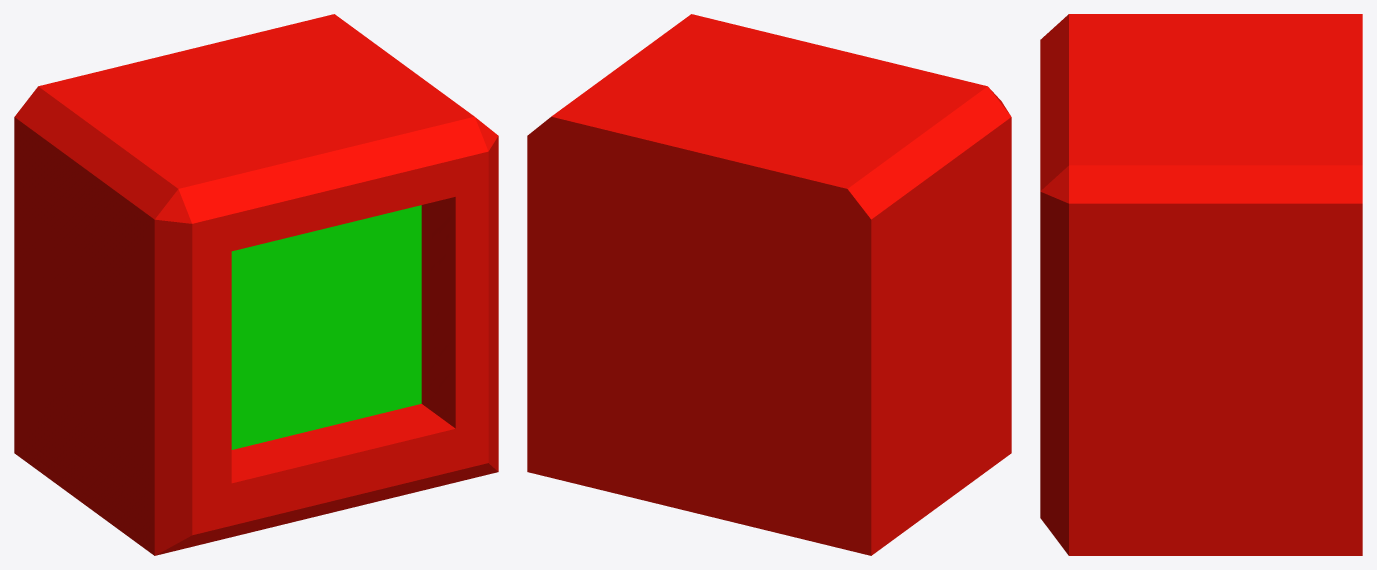
The model's file is Ammo.FBX.
3 views of the same model, side by side, from view 1: azimuth 30°, elevation 25°; view 2: azimuth 150°, elevation 25°; view 3: azimuth 270°, elevation 25° (orthographic). The views are drawn at different scales.
Visible parts, largest first — view 1: Ammo; view 2: Ammo; view 3: Ammo.
Part boxes in pixels (bbox=[...]): Ammo: bbox=[14, 14, 498, 555]; Ammo: bbox=[527, 14, 1011, 555]; Ammo: bbox=[1040, 14, 1362, 555].
Size of the model in its own units: 19.63 by 19.71 by 15.23.
